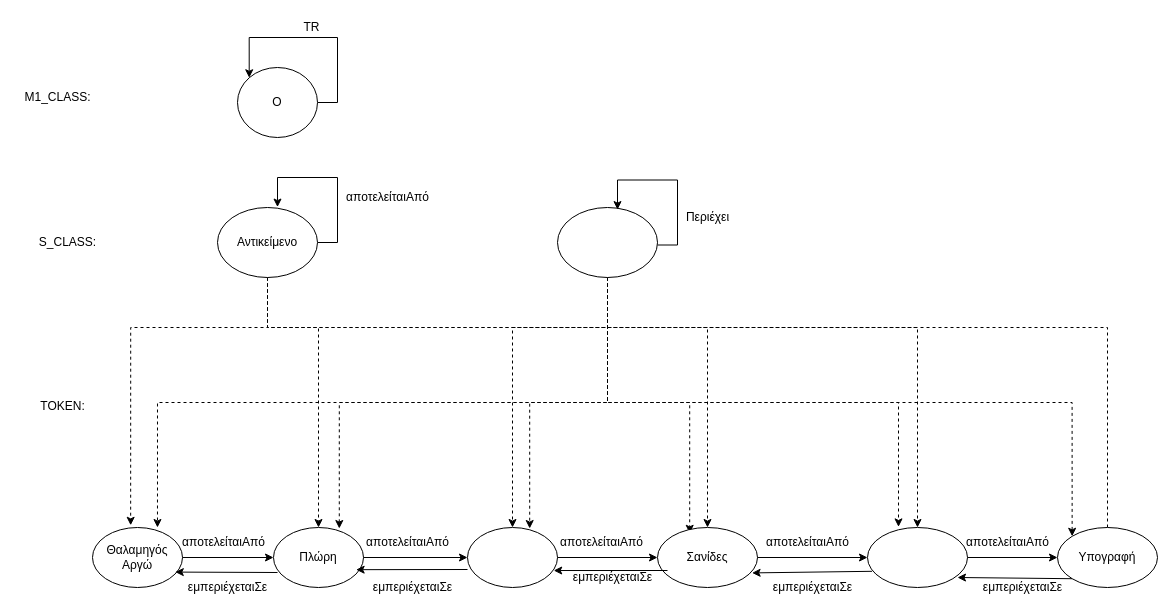
This 1175x614 diagram has some shape labels left out. The shapes that lost their labels are listed below. From the top down, each one's centre as x and y in pixels, then its label:
At (607,242): "Τόπος".
At (512,557): "Κατάστρωμα".
At (917,557): "Πυρογραφία".
